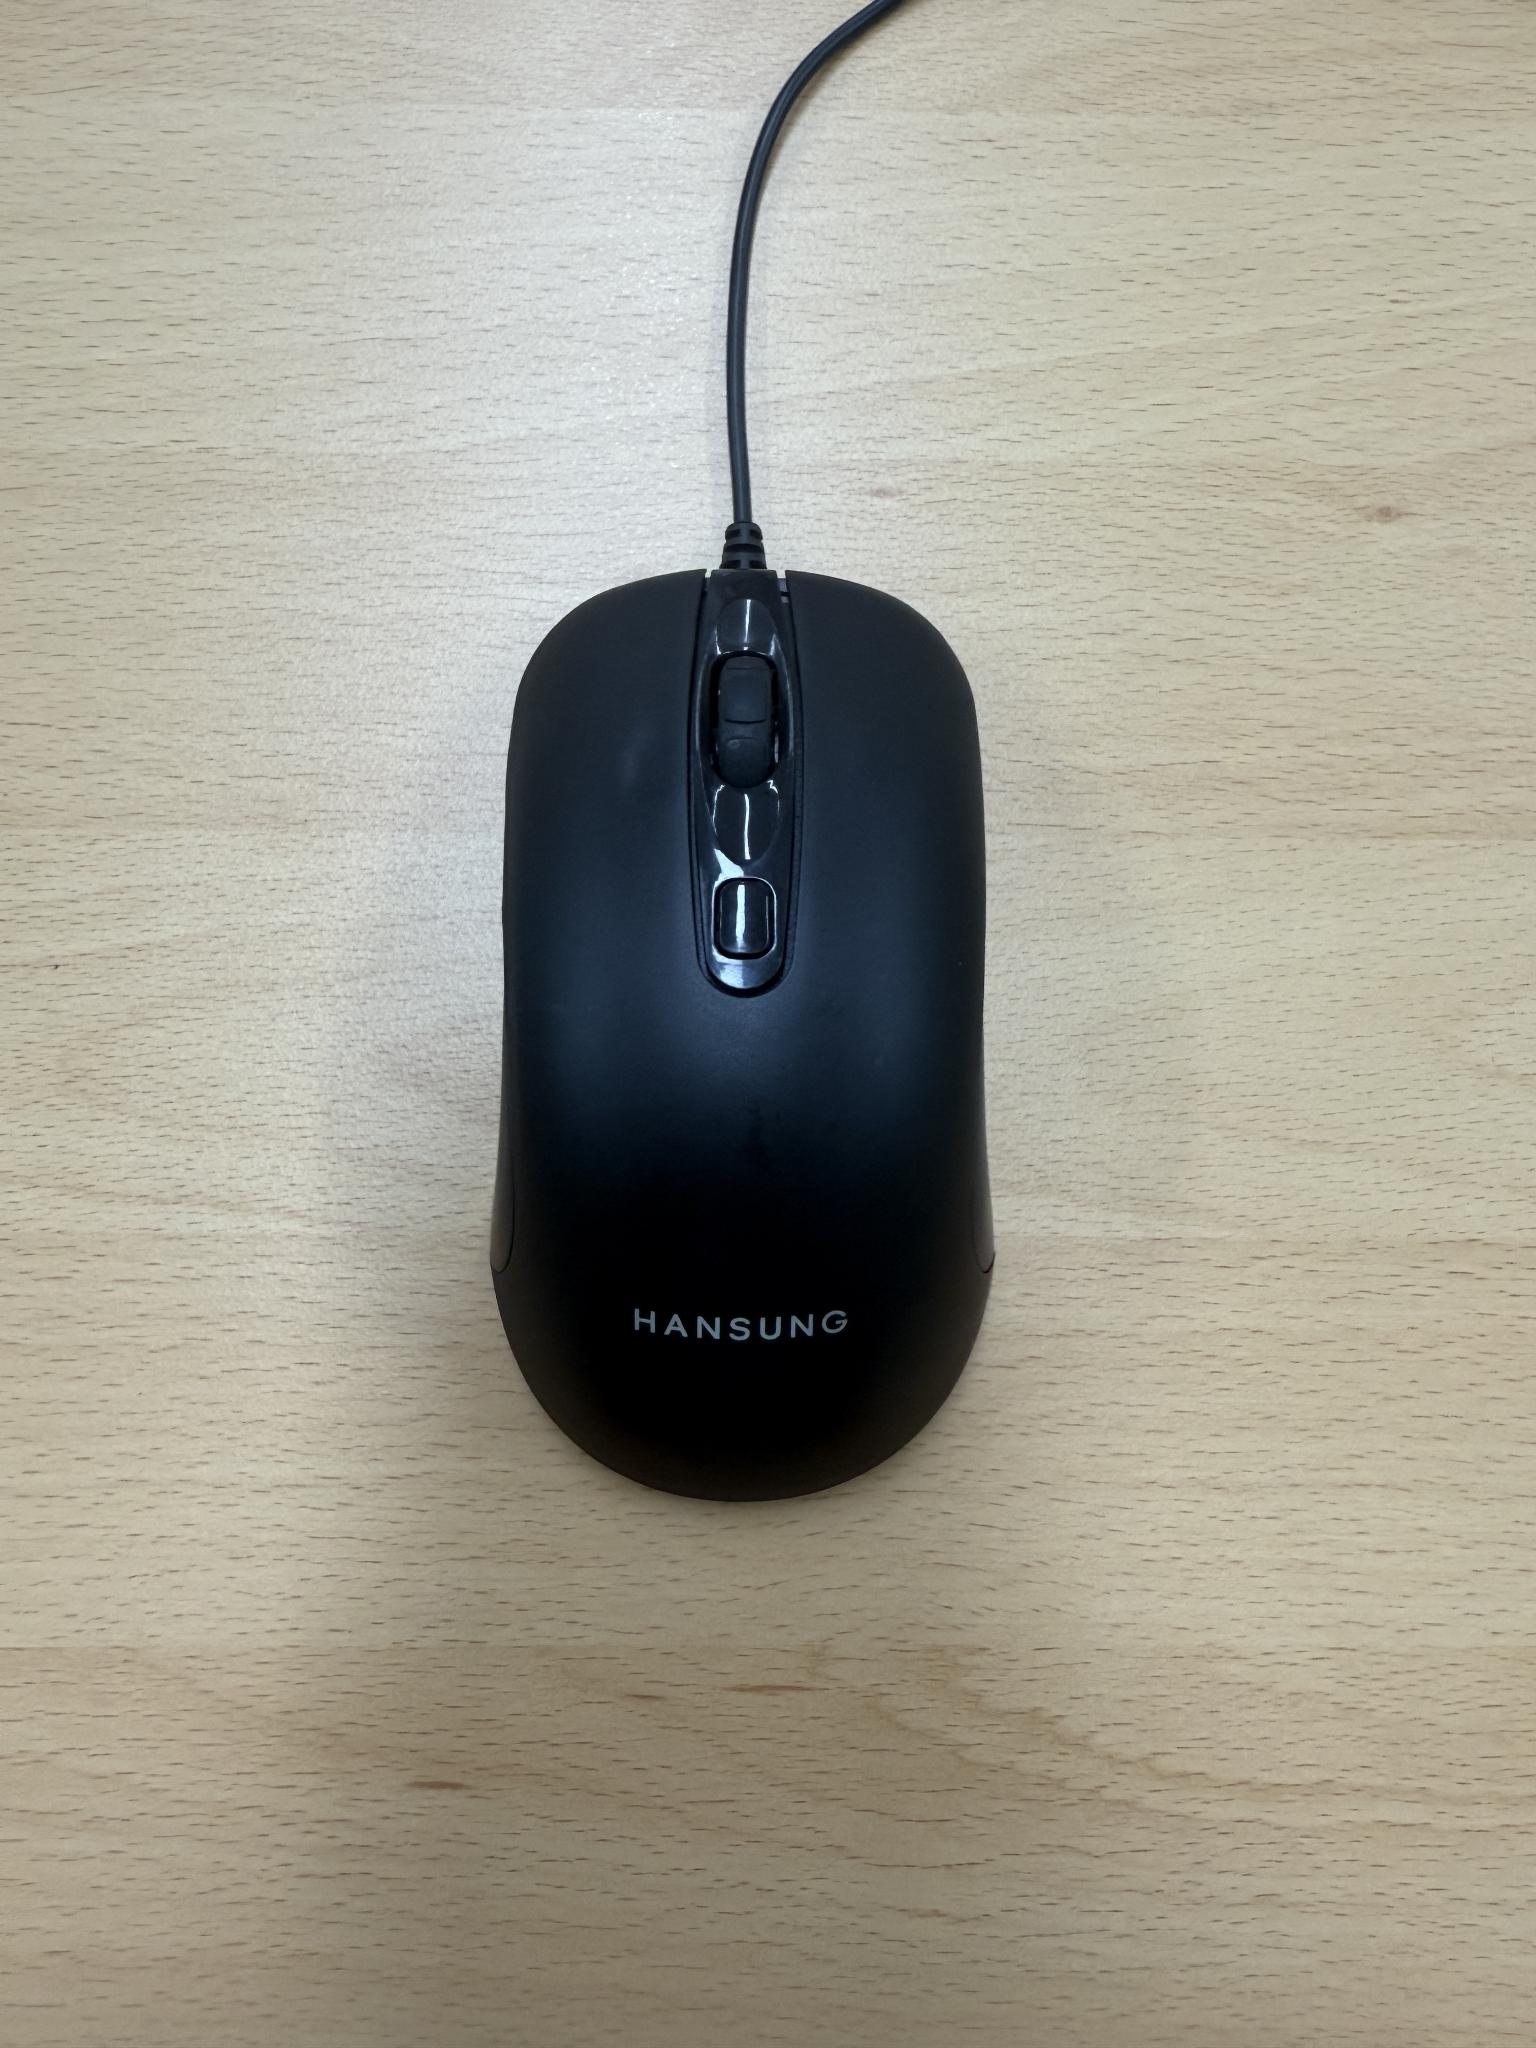front: (503, 564, 999, 1506)
